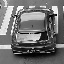motor: (15, 2, 53, 57)
